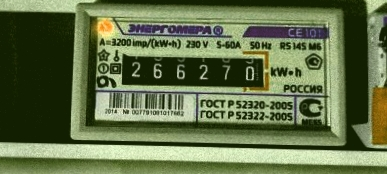0: (243, 64, 255, 81)
2: (128, 59, 141, 77), (197, 62, 208, 80)
6: (151, 61, 163, 79), (174, 62, 186, 80)
7: (220, 62, 231, 80)
screen: (111, 44, 275, 96)
